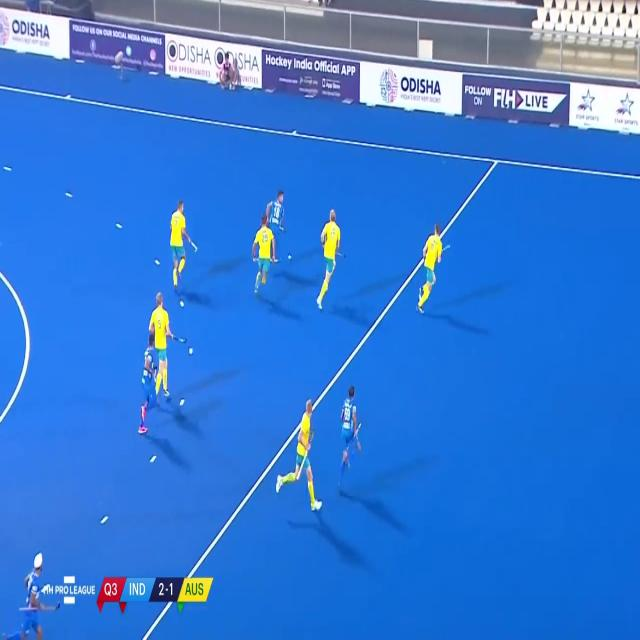ball: (285, 250, 293, 264)
